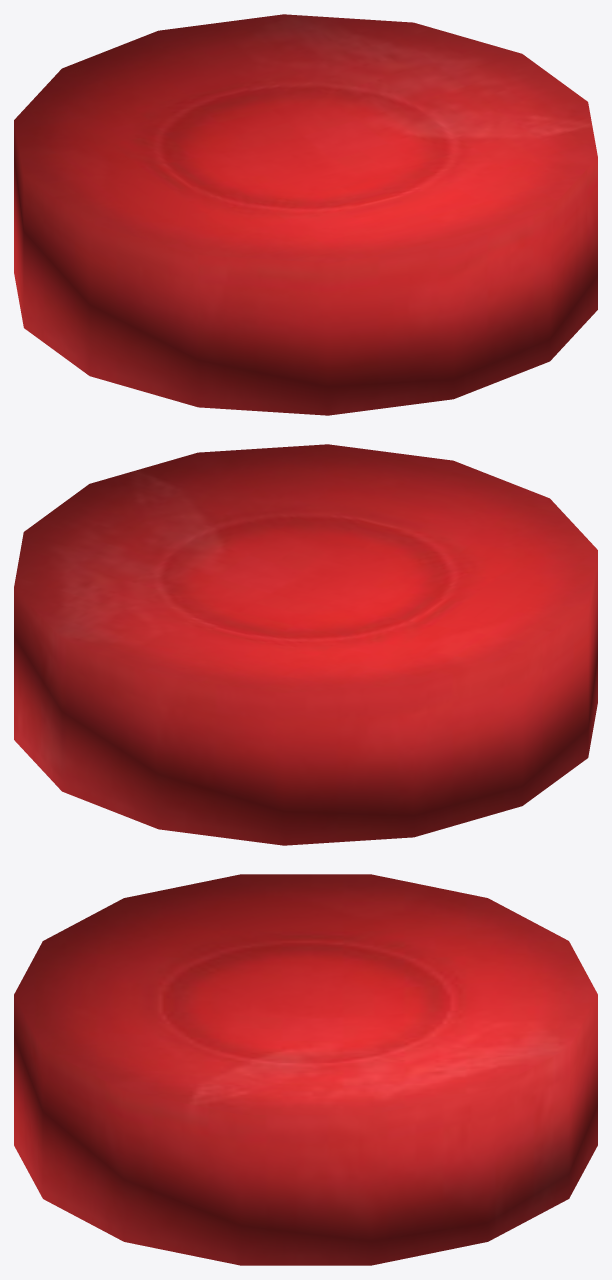
File: tombolaso-checker-red.glb
The picture shows the model from 3 angles, top to bottom: view 1: azimuth 30°, elevation 25°; view 2: azimuth 150°, elevation 25°; view 3: azimuth 270°, elevation 25°; orthographic projection.
Visible parts, largest first — view 1: 01_Props.000; view 2: 01_Props.000; view 3: 01_Props.000.
Boxes of the visible parts, x1=… form: 01_Props.000: x1=14, y1=14, x2=597, y2=415; 01_Props.000: x1=14, y1=444, x2=597, y2=845; 01_Props.000: x1=14, y1=874, x2=597, y2=1265.
Bounding box in the file's own units: 108 × 31.66 × 111.
1 material, 1 textured.
